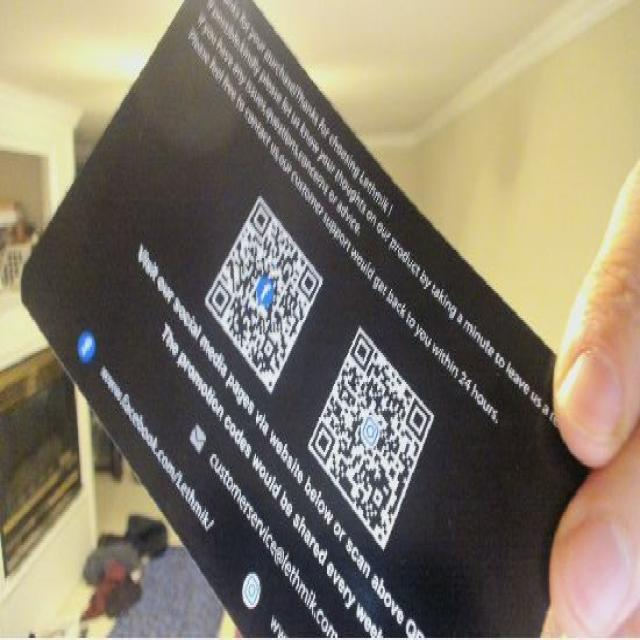QRCode: (306, 323, 455, 564), (193, 158, 324, 403)
